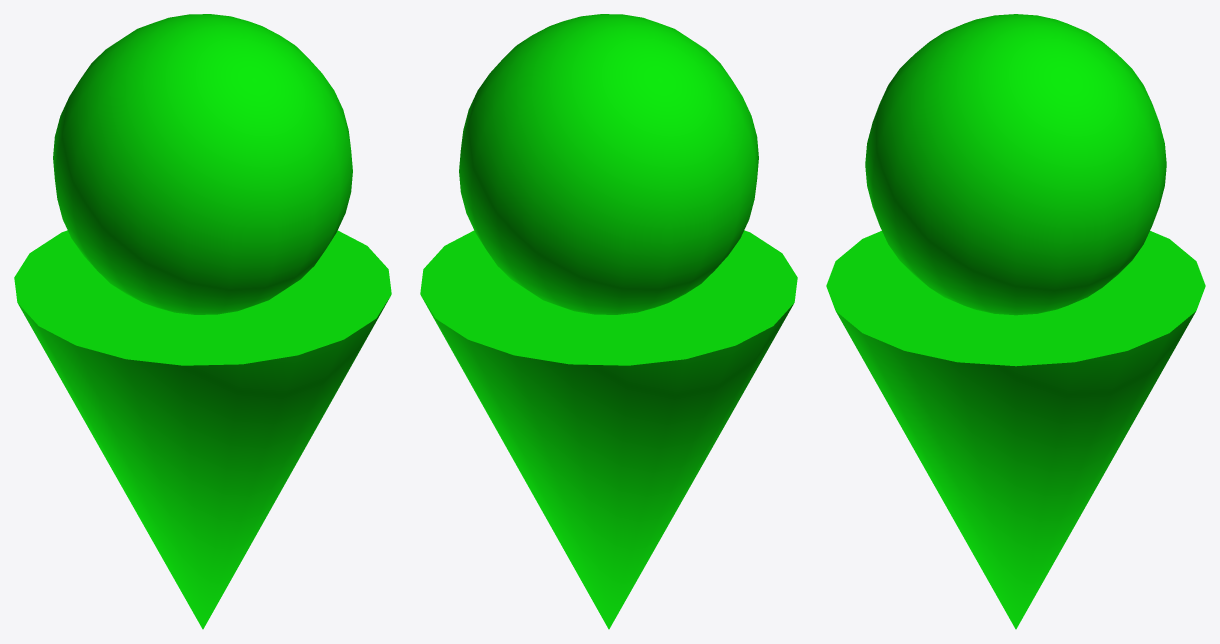
The model's file is player1.fbx.
The picture shows the model from 3 angles, left to right: view 1: azimuth 30°, elevation 25°; view 2: azimuth 150°, elevation 25°; view 3: azimuth 270°, elevation 25°; orthographic projection.
Visible parts, largest first — view 1: pSphere2; view 2: pSphere2; view 3: pSphere2.
Boxes of the visible parts, left/top/right/bottom form: pSphere2: left=14, top=14, right=391, bottom=629; pSphere2: left=420, top=14, right=797, bottom=629; pSphere2: left=826, top=14, right=1205, bottom=629.
Size of the model in its own units: 1.47 by 2.58 by 1.47.
